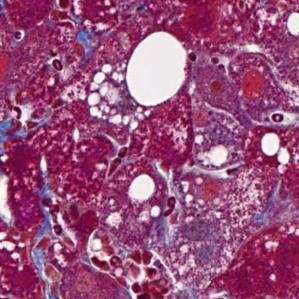steatosis: (127, 28, 188, 109), (128, 173, 156, 206), (260, 130, 283, 155)
